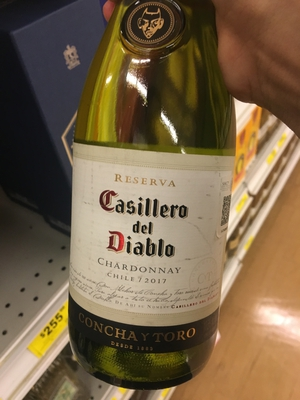casillero del diablo chardonnay: (63, 2, 231, 384)
